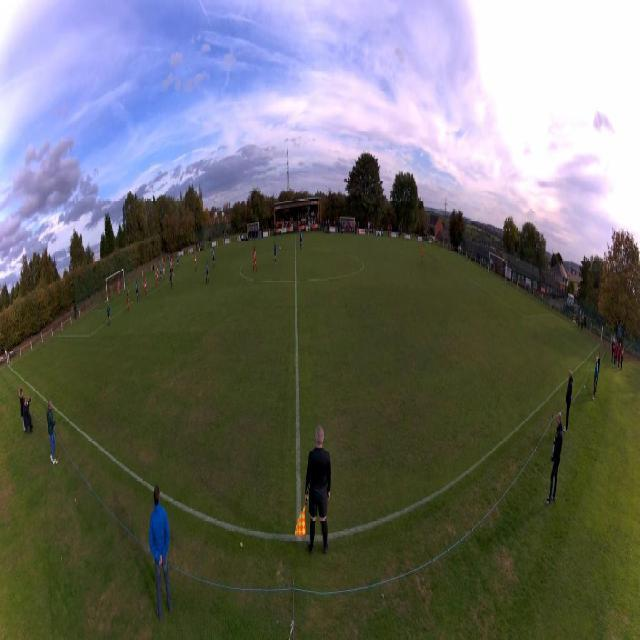ball: (279, 247, 281, 251)
player: (252, 246, 257, 272), (210, 248, 215, 269), (205, 258, 209, 284), (273, 242, 277, 267), (107, 301, 111, 326), (420, 244, 424, 265), (136, 281, 140, 302), (299, 229, 303, 250), (193, 252, 197, 271), (170, 265, 173, 289), (127, 290, 130, 312), (145, 277, 148, 296), (157, 268, 159, 288), (143, 276, 145, 295), (163, 261, 165, 279), (160, 265, 162, 282), (177, 253, 179, 270), (171, 257, 173, 273), (118, 279, 120, 295), (156, 267, 157, 285), (169, 259, 170, 275)
